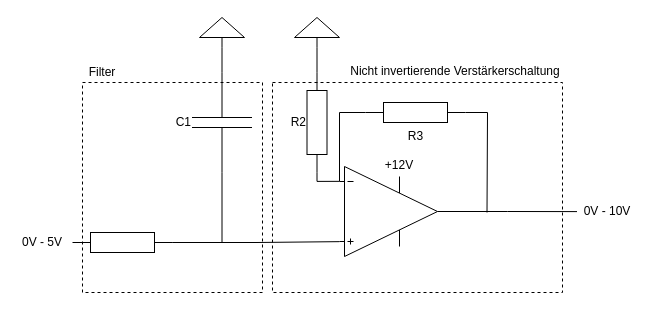
The diagram is 649 pixels wide and 310 high, and some of its shapes have lost their labels. Each missing label, with the centre of its shape:
"0V" goes at [388,211].
"R1" goes at [122,242].
